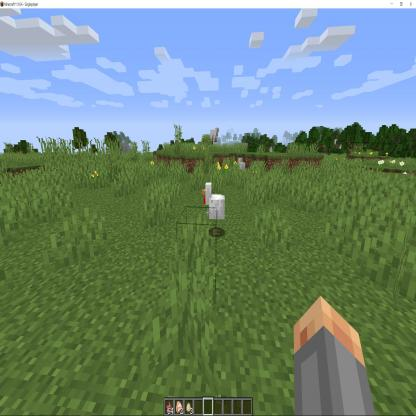minecraft-pigs: (200, 179, 229, 237), (235, 155, 248, 180)
